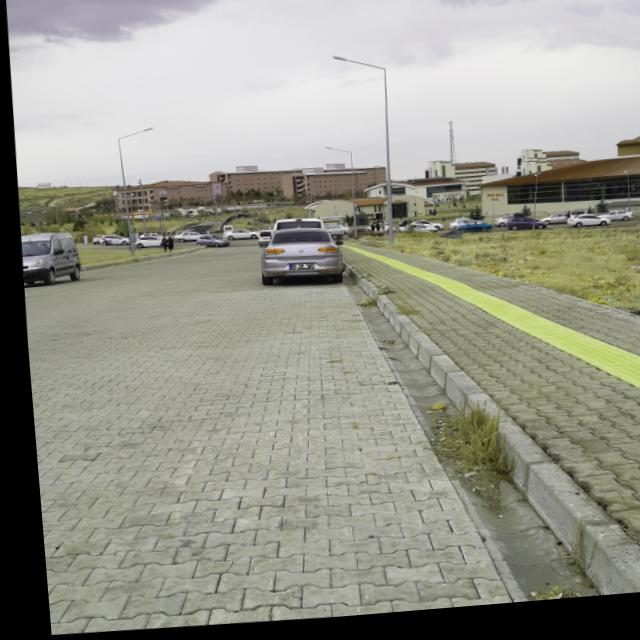license_plate: (284, 267, 309, 274)
